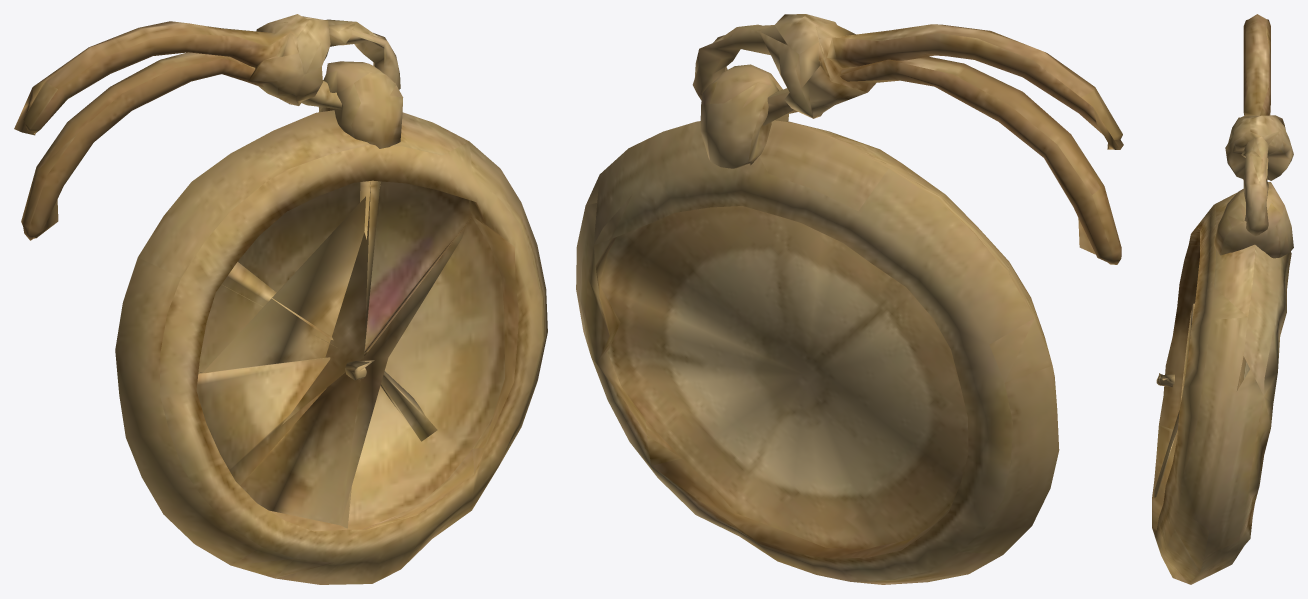
The model's file is acc_compass_pendant.glb.
3 views of the same model, side by side, from view 1: azimuth 30°, elevation 25°; view 2: azimuth 150°, elevation 25°; view 3: azimuth 270°, elevation 25° (orthographic). The views are drawn at different scales.
Bounding box in the file's own units: 0.1045 × 0.1104 × 0.0303.
Materials: 1 (1 with a texture image).
